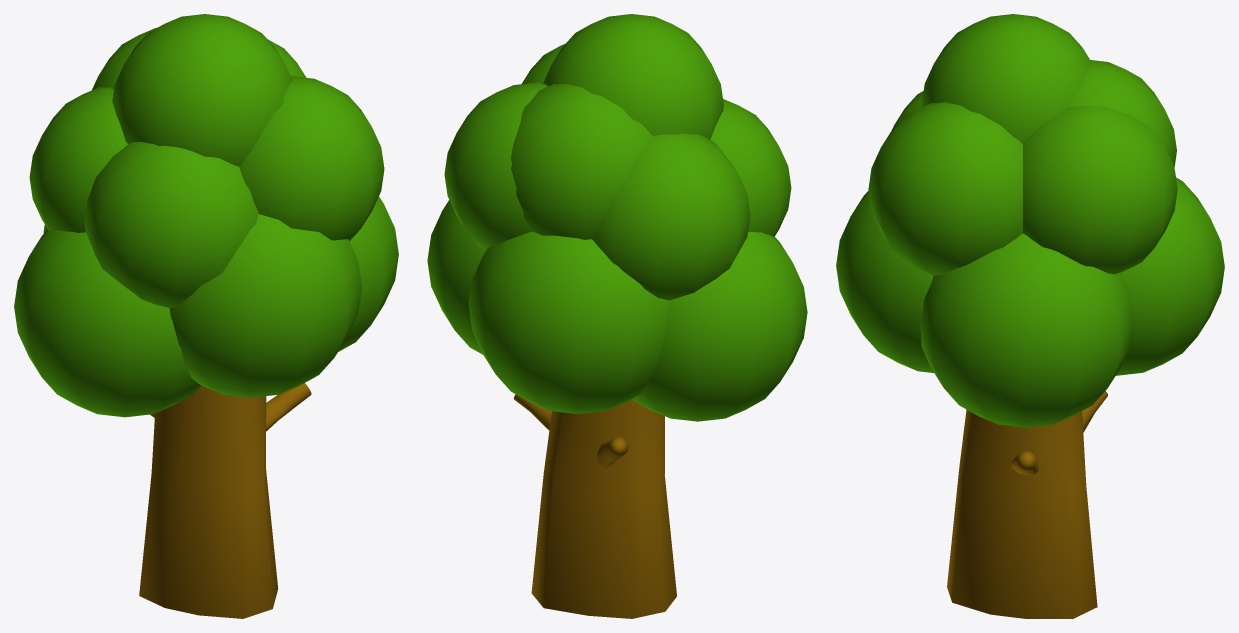
Rendered from treeOne 1.fbx.
The picture shows the model from 3 angles, left to right: view 1: azimuth 30°, elevation 25°; view 2: azimuth 150°, elevation 25°; view 3: azimuth 270°, elevation 25°; orthographic projection.
Parts seen in each view (by area): view 1: pCylinder4; view 2: pCylinder4; view 3: pCylinder4.
Part boxes in pixels (bbox=[...]): pCylinder4: bbox=[14, 14, 398, 618]; pCylinder4: bbox=[427, 14, 807, 618]; pCylinder4: bbox=[836, 14, 1224, 618].
Bounding box in the file's own units: 6.12 × 9.43 × 5.91.
